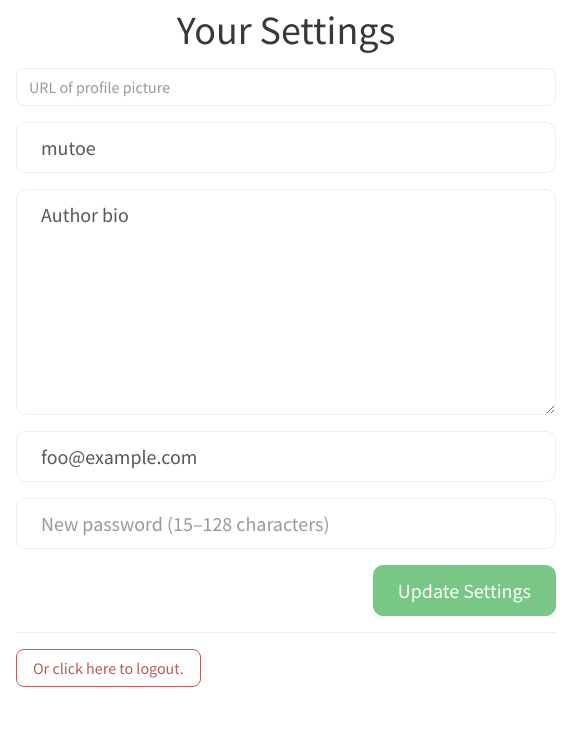
Test: # Settings Page › should display error message when api returned some errors
The width and height of the screenshot is (573, 736).
Type "new username" into the field with placeholder "Your name". click: (286, 148)
box: [16,122,556,173]
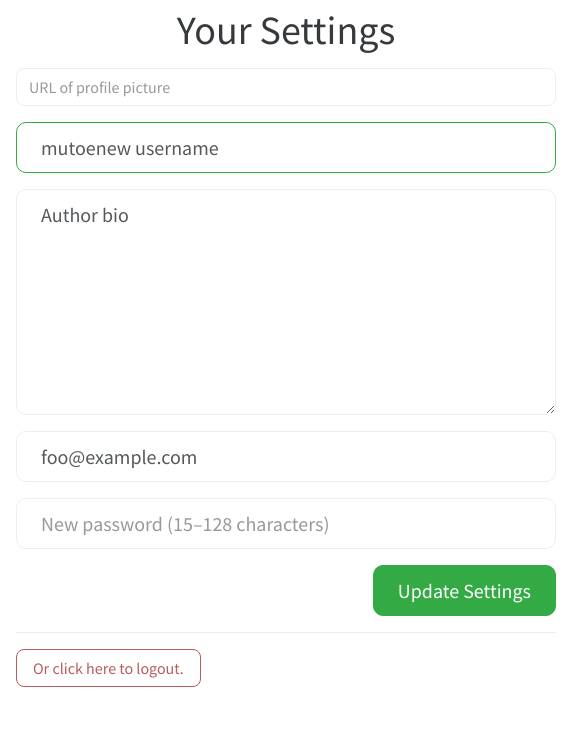
Click the button "Update Settings". click: (464, 590)
box: [373,565,556,616]
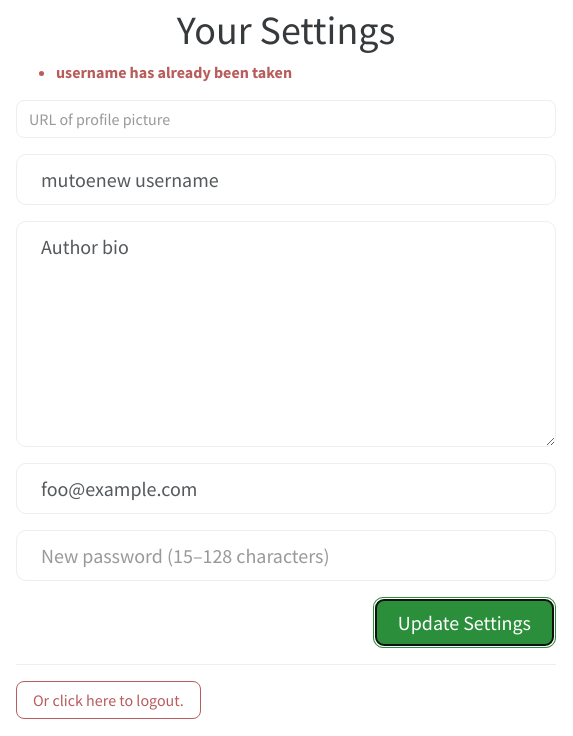
Result: the list item "username has already been taken" is shown at [56,62,292,82]
